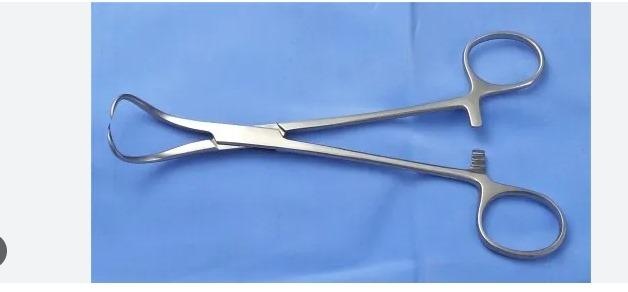Backhaus Towel Clamp: (104, 30, 568, 263)
